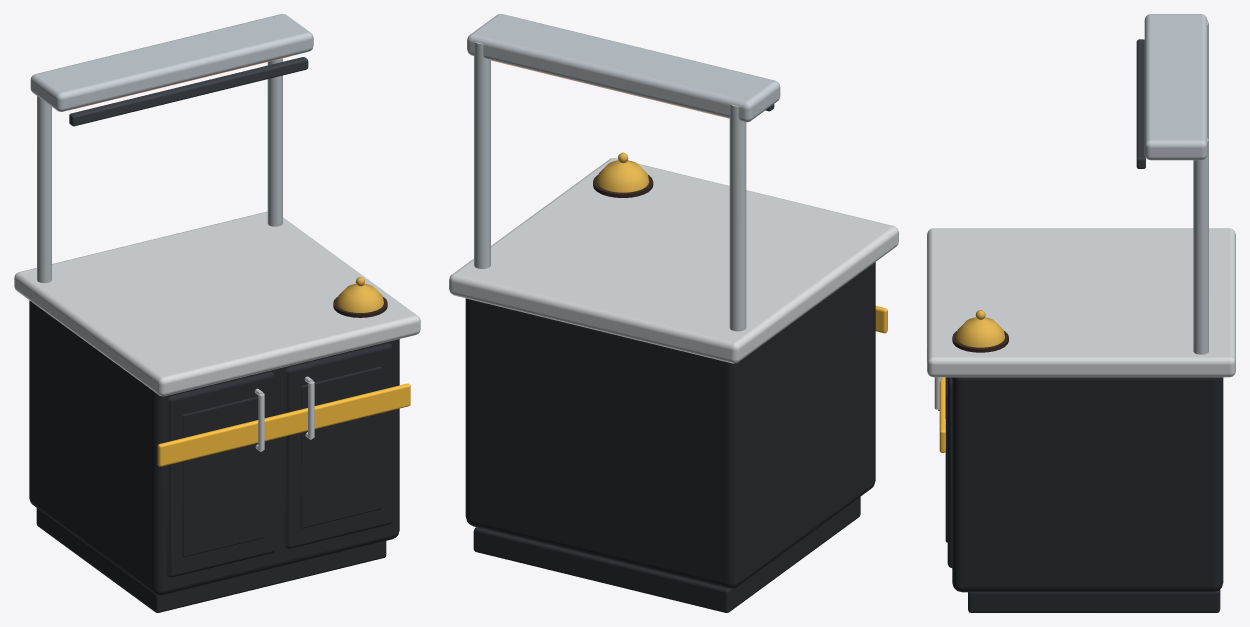
File: station-serve.glb
The picture shows the model from 3 angles, left to right: view 1: azimuth 30°, elevation 25°; view 2: azimuth 150°, elevation 25°; view 3: azimuth 270°, elevation 25°; orthographic projection. The views are drawn at different scales.
Visible parts, largest first — view 1: Serve, BellMesh; view 2: Serve, BellMesh; view 3: Serve, BellMesh.
Boxes of the visible parts, x1,y1,x2,y2 form: Serve: [14, 14, 420, 612]; BellMesh: [333, 277, 387, 317]; Serve: [449, 14, 898, 612]; BellMesh: [593, 152, 653, 197]; Serve: [927, 14, 1235, 612]; BellMesh: [952, 310, 1008, 352].
Bounding box in the file's own units: 1 × 1.67 × 0.9799.
